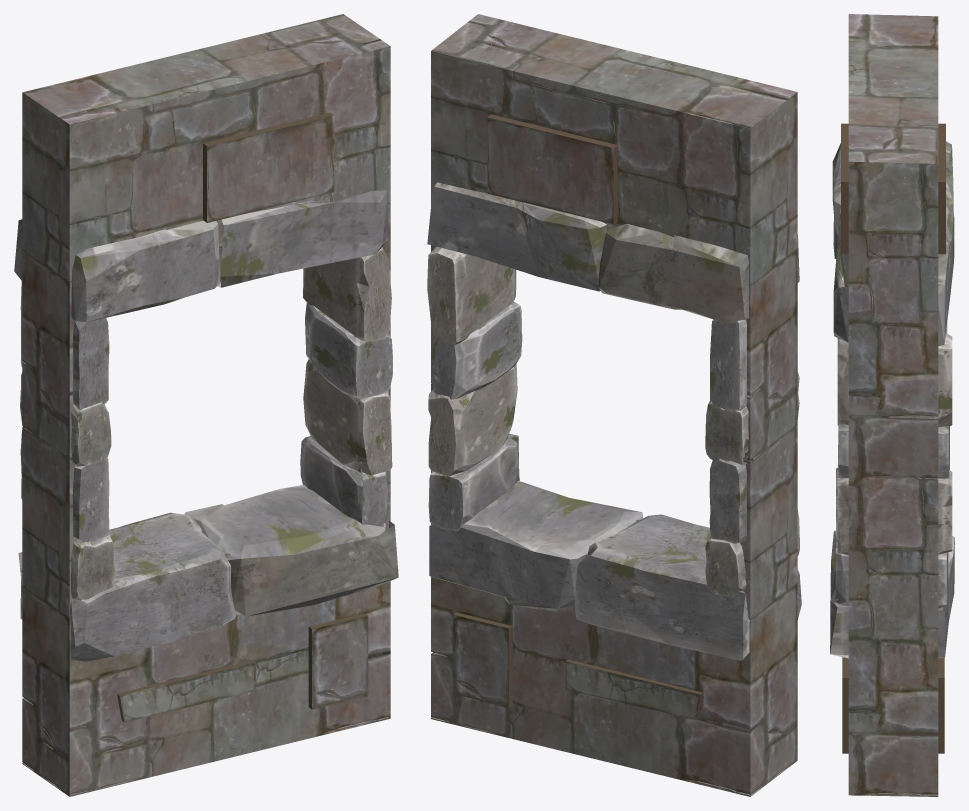
3 renders of one model, left to right at view 1: azimuth 30°, elevation 25°; view 2: azimuth 150°, elevation 25°; view 3: azimuth 270°, elevation 25°, orthographic. The views are drawn at different scales.
Visible parts, largest first — view 1: SM_BB_T3_Wall_Windowframe_Narrow_LOD0; view 2: SM_BB_T3_Wall_Windowframe_Narrow_LOD0; view 3: SM_BB_T3_Wall_Windowframe_Narrow_LOD0.
Boxes of the visible parts, x1,y1,x2,y2 form: SM_BB_T3_Wall_Windowframe_Narrow_LOD0: (14,14,398,796); SM_BB_T3_Wall_Windowframe_Narrow_LOD0: (427,14,801,796); SM_BB_T3_Wall_Windowframe_Narrow_LOD0: (830,14,954,796).
Size of the model in its own units: 1.51 by 3.01 by 0.5357.
2 materials, 2 textured.
